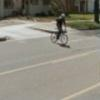bicycles: (61, 28, 68, 45), (51, 32, 60, 43)
